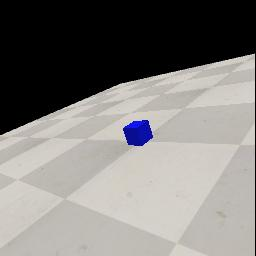box: (123, 120, 153, 146)
